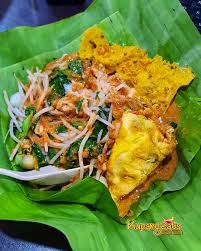Nasi pecel: (7, 31, 191, 218)
